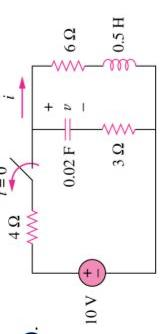Capacitor: (50, 113, 77, 143)
